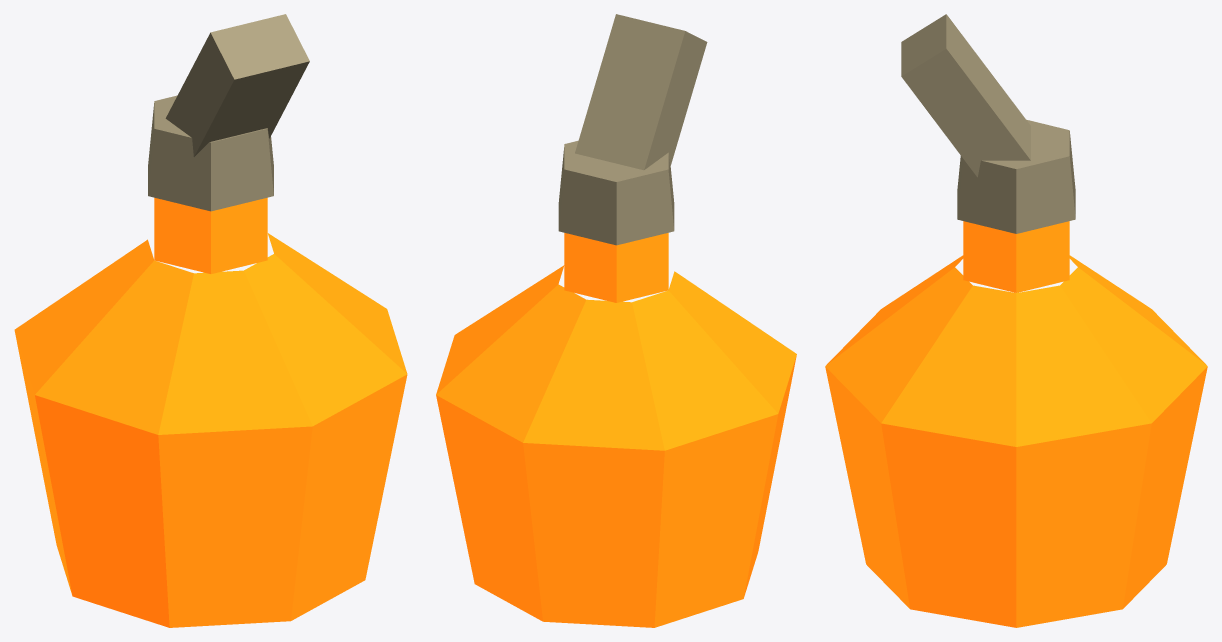
File: alchemists_fire.glb
3 views of the same model, side by side, from view 1: azimuth 30°, elevation 25°; view 2: azimuth 150°, elevation 25°; view 3: azimuth 270°, elevation 25° (orthographic). The views are drawn at different scales.
Parts seen in each view (by area): view 1: alchemists_fire; view 2: alchemists_fire; view 3: alchemists_fire.
Part boxes in pixels (x1=…): alchemists_fire: x1=14, y1=14, x2=407, y2=627; alchemists_fire: x1=436, y1=14, x2=796, y2=627; alchemists_fire: x1=825, y1=14, x2=1207, y2=627.
Bounding box in the file's own units: 0.35 × 0.5379 × 0.35.
